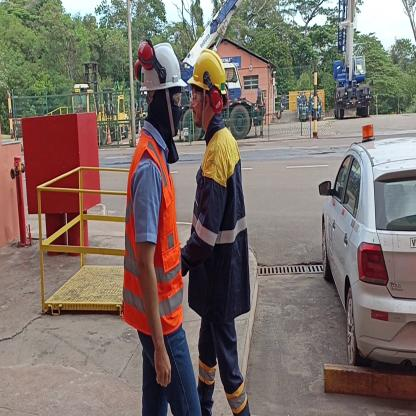Balaclava: (145, 90, 183, 139)
C_eletrica: (190, 122, 249, 318)
Capacete: (134, 39, 186, 90), (189, 44, 231, 92)
colete: (122, 133, 186, 334)
